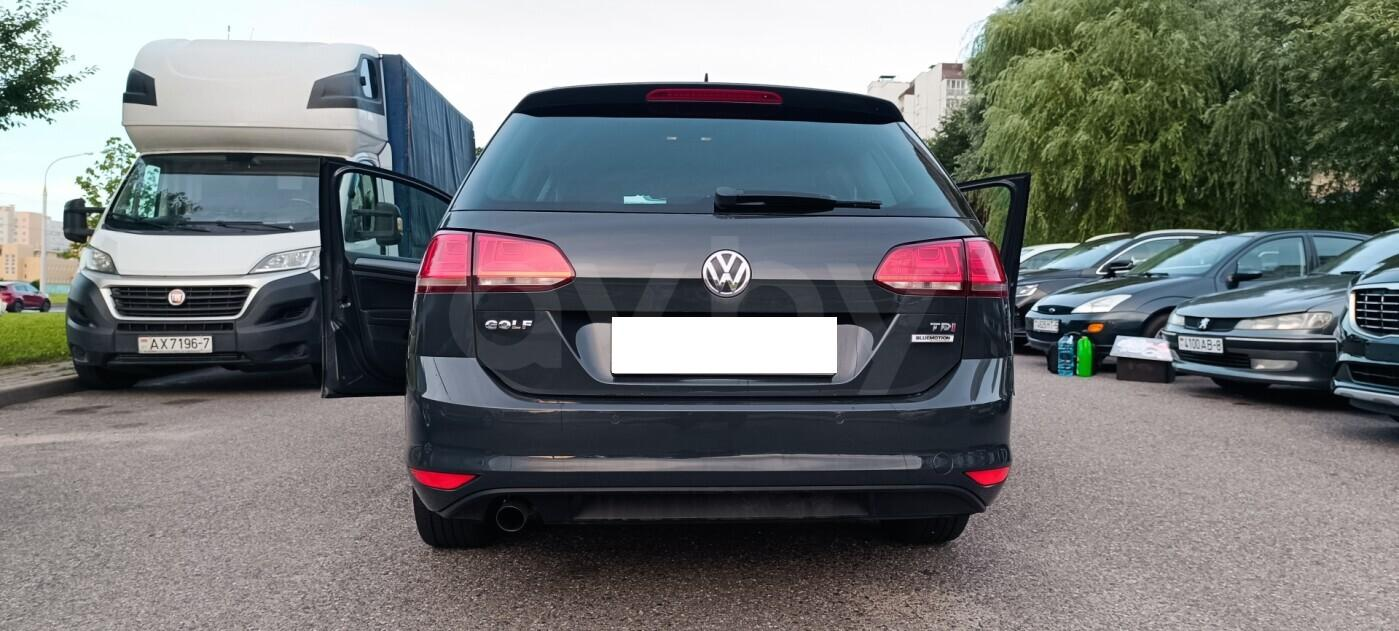Golf_2012-2017: (399, 80, 1027, 552)
